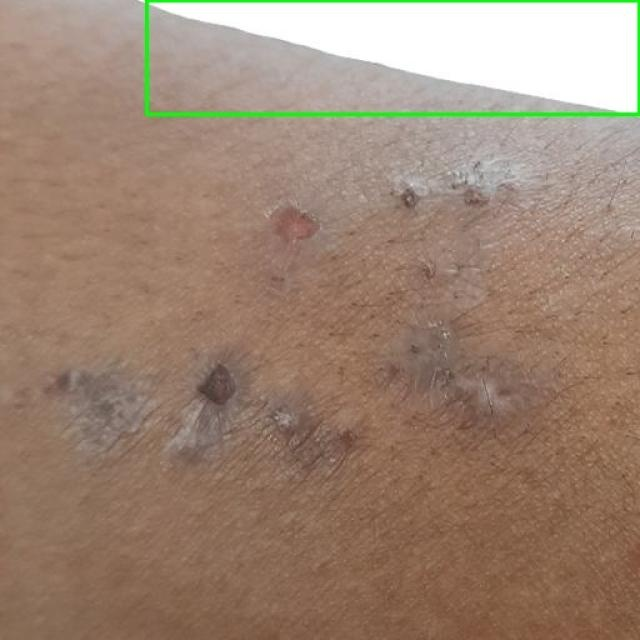Atopic Dermatitis: (146, 0, 639, 114)
